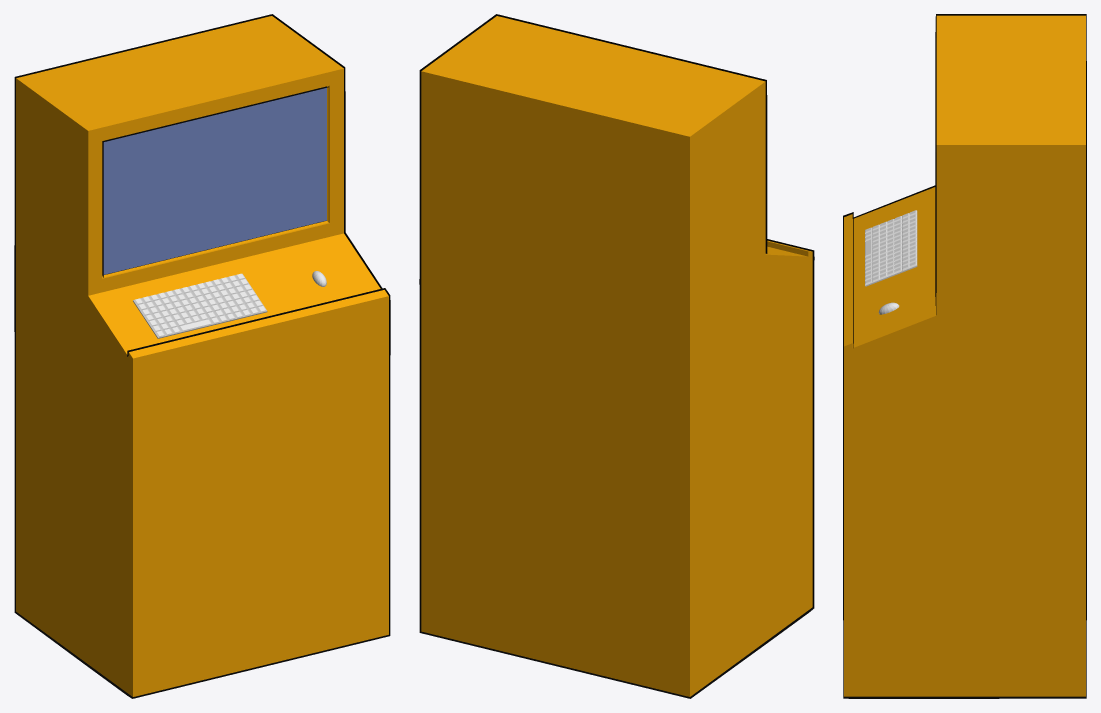
File: HelpDesk.fbx
The picture shows the model from 3 angles, left to right: view 1: azimuth 30°, elevation 25°; view 2: azimuth 150°, elevation 25°; view 3: azimuth 270°, elevation 25°; orthographic projection. The views are drawn at different scales.
Visible parts, largest first — view 1: Body, Cube.001, Plane; view 2: Body; view 3: Body, Plane.
Boxes of the visible parts, box(x1,y1,x2,y2) form: Body: box(14, 14, 390, 698); Cube.001: box(103, 88, 326, 274); Plane: box(133, 273, 267, 338); Body: box(419, 14, 814, 698); Body: box(843, 14, 1086, 698); Plane: box(865, 210, 917, 286).
Bounding box in the file's own units: 154 × 121 × 305.
